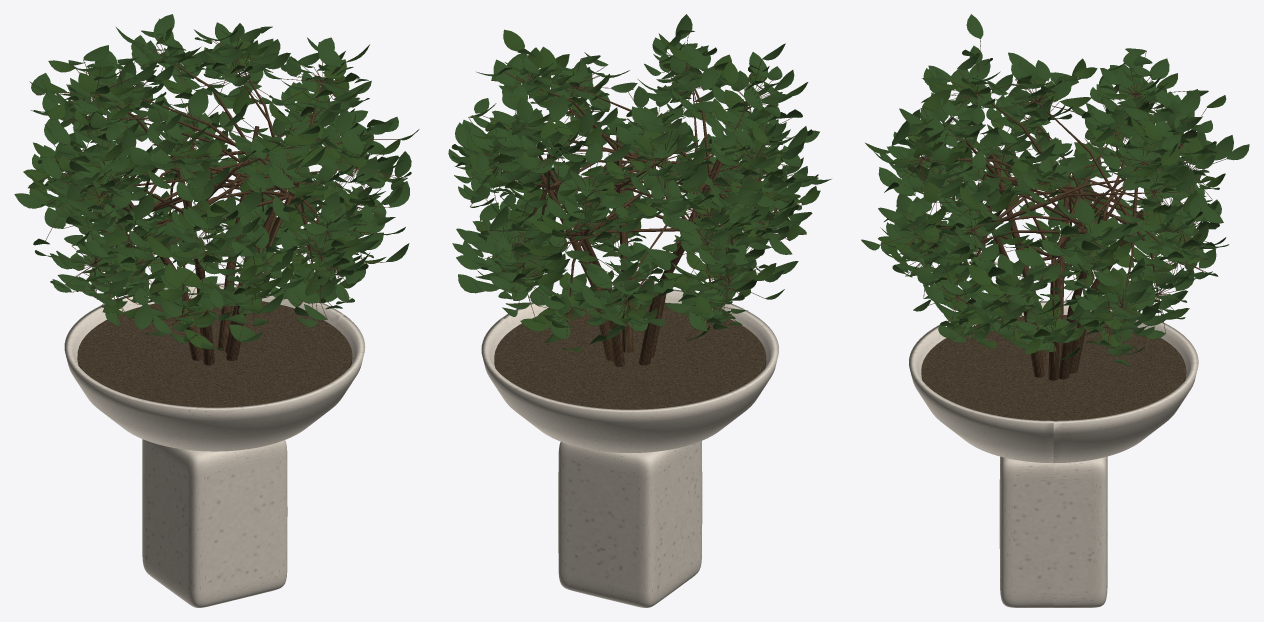
File: G24_broadleaf_pedestal.glb
3 views of the same model, side by side, from view 1: azimuth 30°, elevation 25°; view 2: azimuth 150°, elevation 25°; view 3: azimuth 270°, elevation 25° (orthographic). The views are drawn at different scales.
Parts seen in each view (by area): view 1: item / Deep green oval leaves, item / Shared warm ivory fine granular stone, item / Young olive green oval leaves, item / Exposed dark planting substrate, item / Dark brown branched wood; view 2: item / Deep green oval leaves, item / Shared warm ivory fine granular stone, item / Exposed dark planting substrate, item / Young olive green oval leaves, item / Dark brown branched wood; view 3: item / Deep green oval leaves, item / Shared warm ivory fine granular stone, item / Young olive green oval leaves, item / Exposed dark planting substrate, item / Dark brown branched wood.
Part boxes in pixels (x1=…): item / Deep green oval leaves: x1=14, y1=14, x2=419, y2=349; item / Shared warm ivory fine granular stone: x1=64, y1=283, x2=365, y2=607; item / Young olive green oval leaves: x1=23, y1=27, x2=407, y2=348; item / Exposed dark planting substrate: x1=77, y1=298, x2=352, y2=407; item / Dark brown branched wood: x1=28, y1=27, x2=406, y2=365; item / Deep green oval leaves: x1=448, y1=14, x2=831, y2=344; item / Shared warm ivory fine granular stone: x1=481, y1=287, x2=778, y2=607; item / Exposed dark planting substrate: x1=494, y1=302, x2=766, y2=409; item / Young olive green oval leaves: x1=451, y1=29, x2=820, y2=351; item / Dark brown branched wood: x1=468, y1=33, x2=806, y2=366; item / Deep green oval leaves: x1=861, y1=14, x2=1249, y2=366; item / Shared warm ivory fine granular stone: x1=909, y1=301, x2=1198, y2=607; item / Young olive green oval leaves: x1=865, y1=58, x2=1226, y2=354; item / Exposed dark planting substrate: x1=921, y1=315, x2=1186, y2=420; item / Dark brown branched wood: x1=881, y1=39, x2=1225, y2=380.
Bounding box in the file's own units: 1.41 × 2.18 × 1.47.
Materials: 5 (5 with a texture image).
